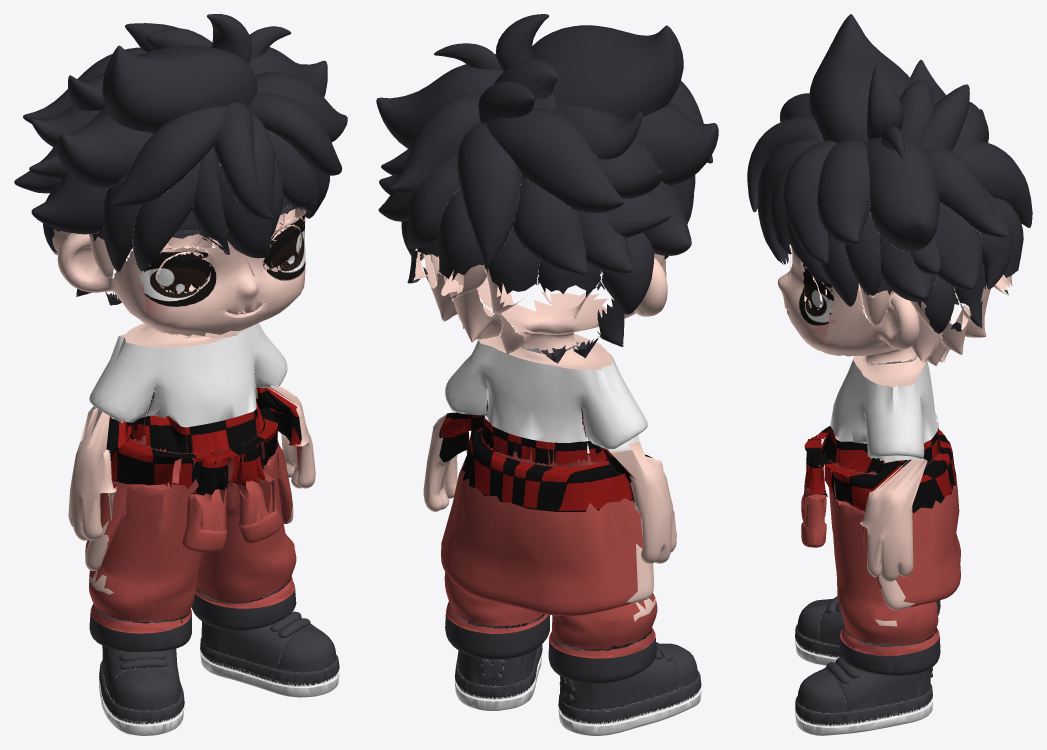
The model's file is mascot-3d.glb.
The picture shows the model from 3 angles, left to right: view 1: azimuth 30°, elevation 25°; view 2: azimuth 150°, elevation 25°; view 3: azimuth 270°, elevation 25°; orthographic projection. The views are drawn at different scales.
Visible parts, largest first — view 1: Chibi; view 2: Chibi; view 3: Chibi.
Part boxes in pixels (x1=…): Chibi: x1=14, y1=14, x2=347, y2=735; Chibi: x1=376, y1=14, x2=718, y2=735; Chibi: x1=747, y1=14, x2=1032, y2=735.
Size of the model in its own units: 0.843 by 1.8 by 0.7377.
Materials: 8 (2 with a texture image).
